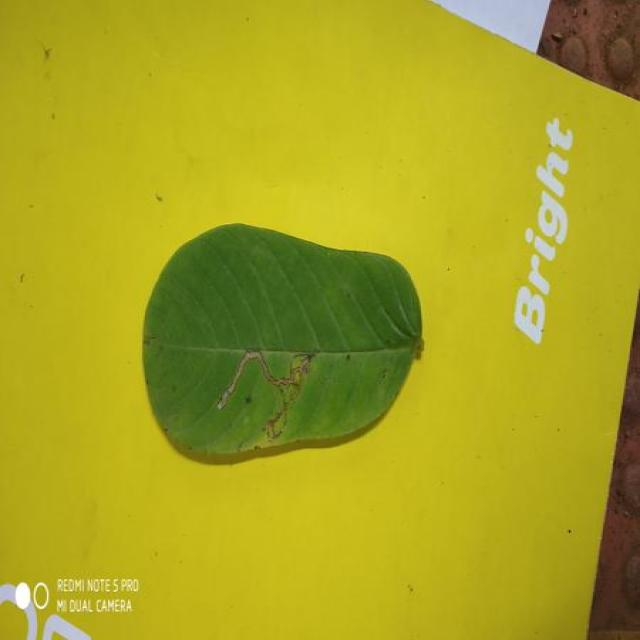chakte: (143, 224, 422, 462)
disease in leaf: (218, 351, 314, 436)
